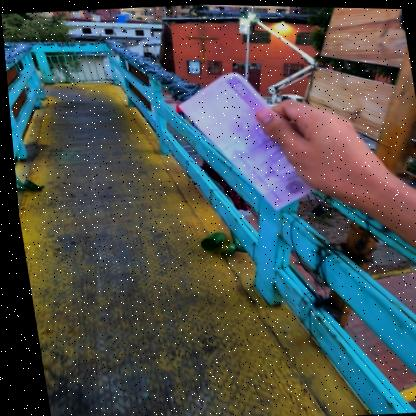vef_back: (170, 65, 315, 216)
